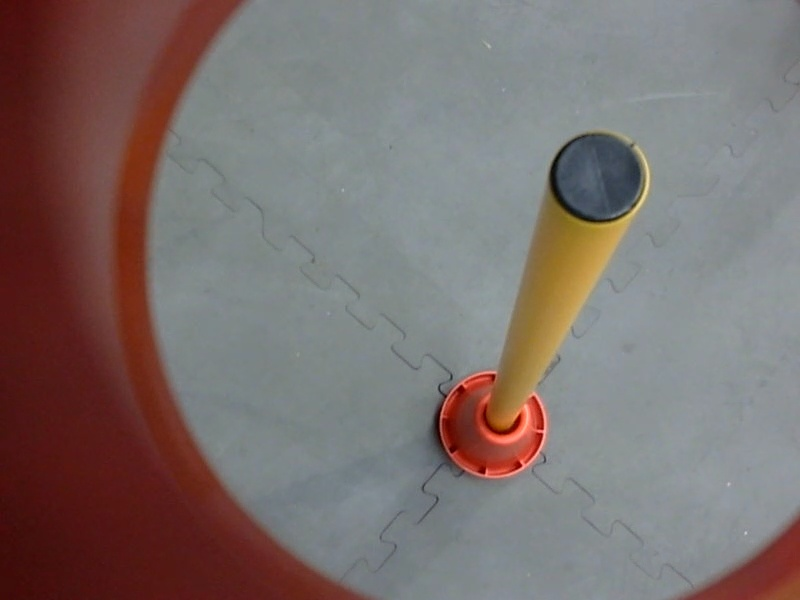tip: (542, 121, 657, 233)
